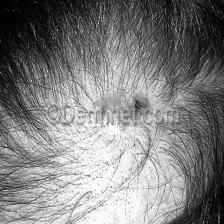Benign Marking or Mole: (86, 90, 154, 119)
